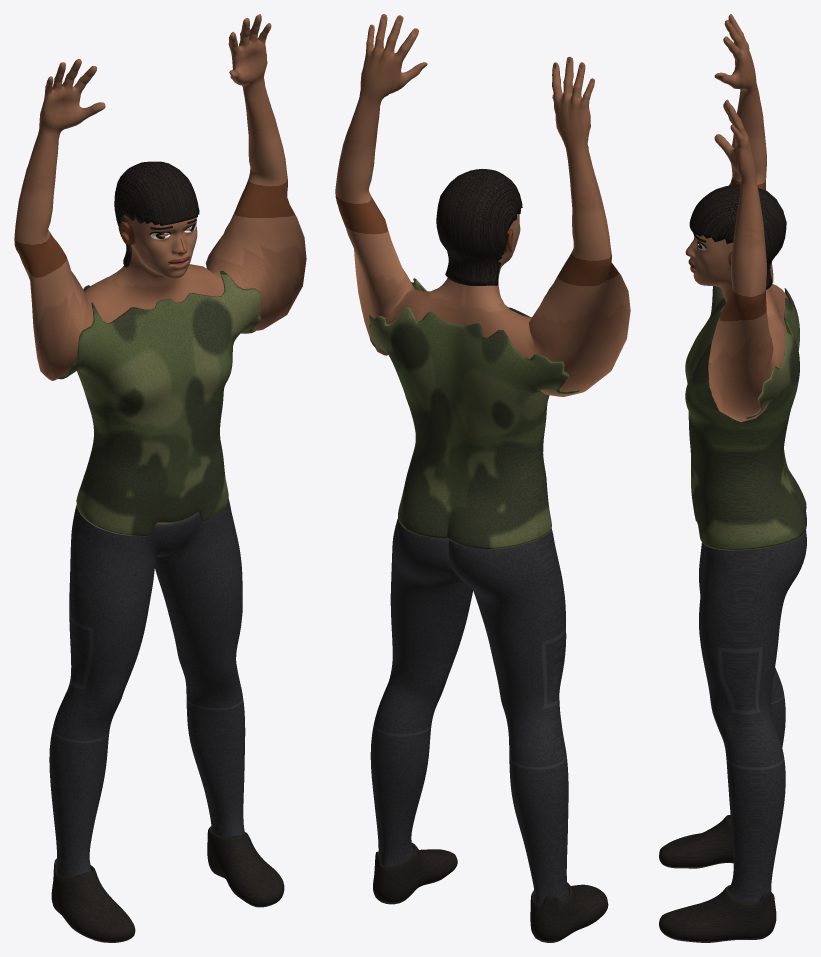
The model's file is charA-prone.glb.
The picture shows the model from 3 angles, left to right: view 1: azimuth 30°, elevation 25°; view 2: azimuth 150°, elevation 25°; view 3: azimuth 270°, elevation 25°; orthographic projection. The views are drawn at different scales.
Parts seen in each view (by area): view 1: pants, Human, shirt, shoes, hair; view 2: pants, Human, shirt, hair, shoes; view 3: pants, shirt, Human, shoes, hair.
Part boxes in pixels (x1,y1,x2,y2): pants: [49, 499, 245, 876]; Human: [14, 14, 306, 523]; shirt: [58, 271, 261, 536]; shoes: [51, 826, 284, 942]; hair: [114, 161, 199, 267]; pants: [370, 517, 568, 903]; Human: [335, 14, 630, 396]; shirt: [369, 278, 580, 549]; hair: [436, 169, 522, 285]; shoes: [373, 842, 608, 942]; pants: [699, 510, 806, 902]; shirt: [685, 286, 806, 550]; Human: [685, 14, 788, 421]; shoes: [659, 815, 776, 942]; hair: [689, 184, 786, 289].
Size of the model in its own units: 0.6508 by 1.98 by 0.3164.
Materials: 5 (5 with a texture image).
